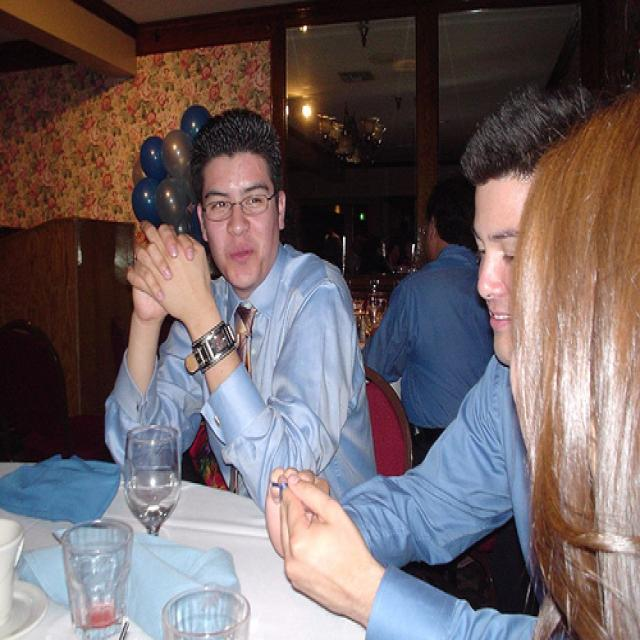diningtable: (1, 457, 367, 639)
person: (267, 92, 640, 640), (104, 111, 378, 505), (510, 99, 640, 640), (362, 175, 495, 472)
